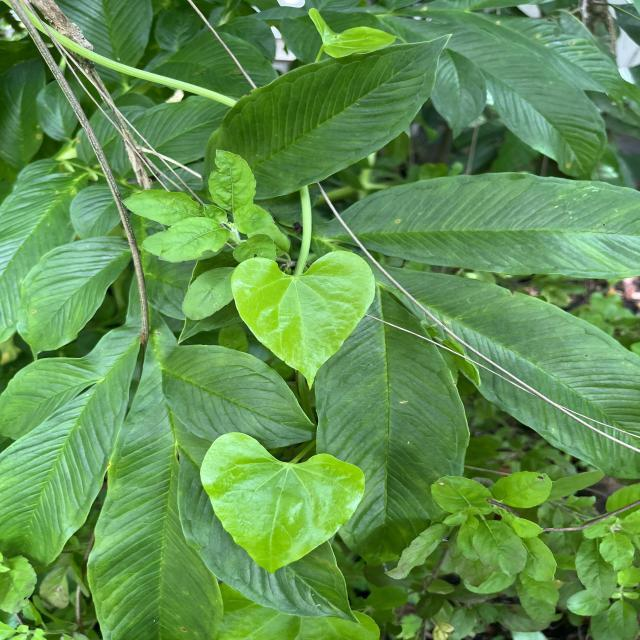Tinospora cordifolia: (198, 430, 366, 578), (228, 248, 378, 392)
